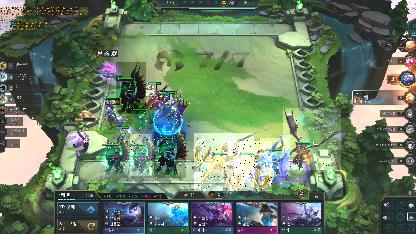1_daeja: (260, 138, 290, 176)
1_shiohyu: (104, 137, 128, 177), (130, 134, 152, 176)
1_swain: (283, 108, 341, 170)
2_idas: (194, 133, 254, 191), (228, 141, 272, 191)
2_shiohyu: (116, 62, 146, 114), (154, 132, 186, 178)
2_sylas: (146, 82, 156, 96)
2_vladimir: (101, 94, 127, 132)
3_syfen: (150, 92, 190, 132)
